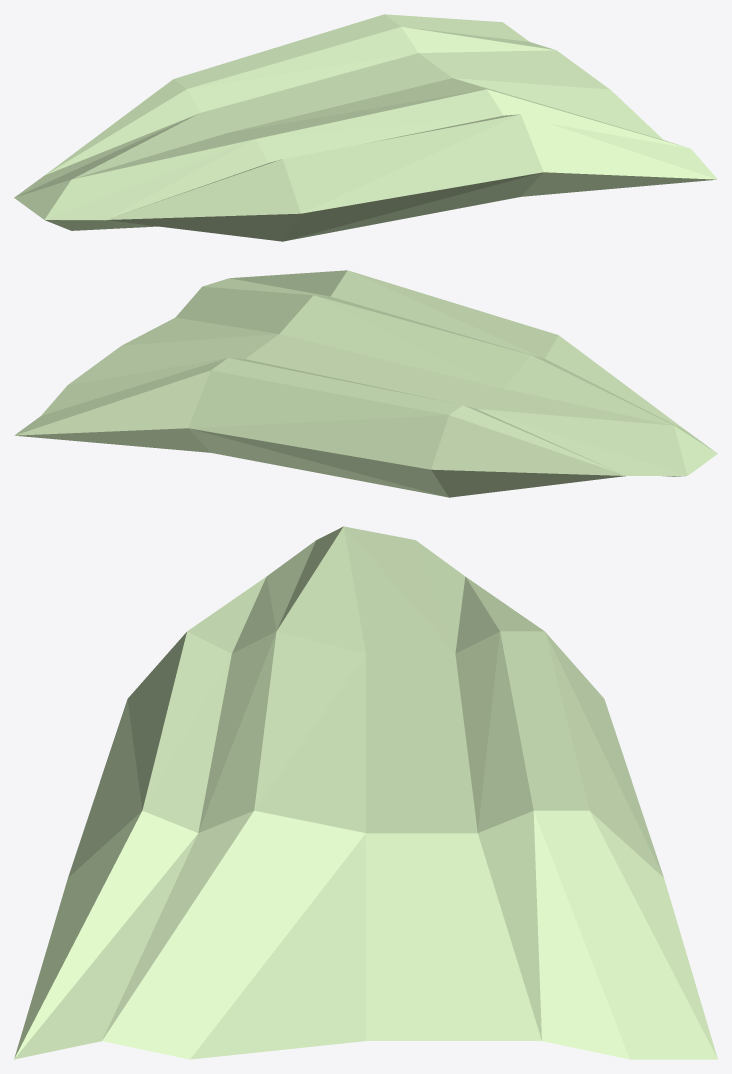
File: Towel.fbx
The picture shows the model from 3 angles, top to bottom: view 1: azimuth 30°, elevation 25°; view 2: azimuth 150°, elevation 25°; view 3: azimuth 270°, elevation 25°; orthographic projection. The views are drawn at different scales.
Visible parts, largest first — view 1: Towel; view 2: Towel; view 3: Towel.
Boxes of the visible parts, <box> form: Towel: <box>14,14,717,241</box>; Towel: <box>14,270,717,497</box>; Towel: <box>14,526,717,1059</box>.
Bounding box in the file's own units: 0.4421 × 0.06 × 0.2834.
